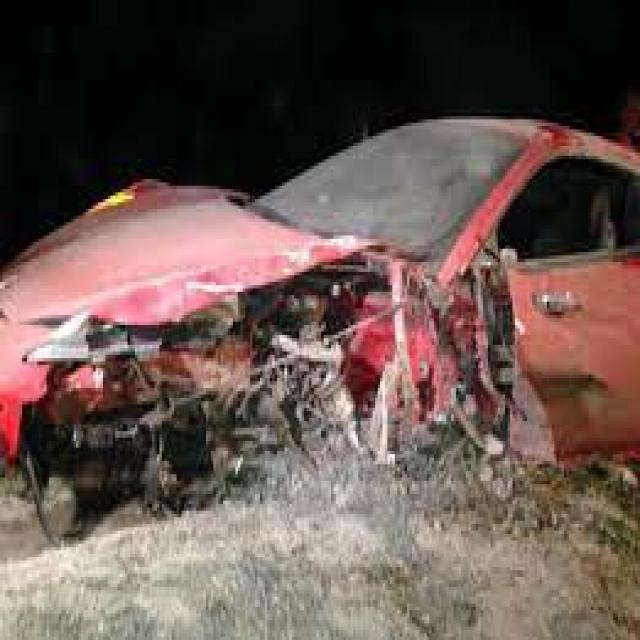severe: (5, 94, 507, 482)
